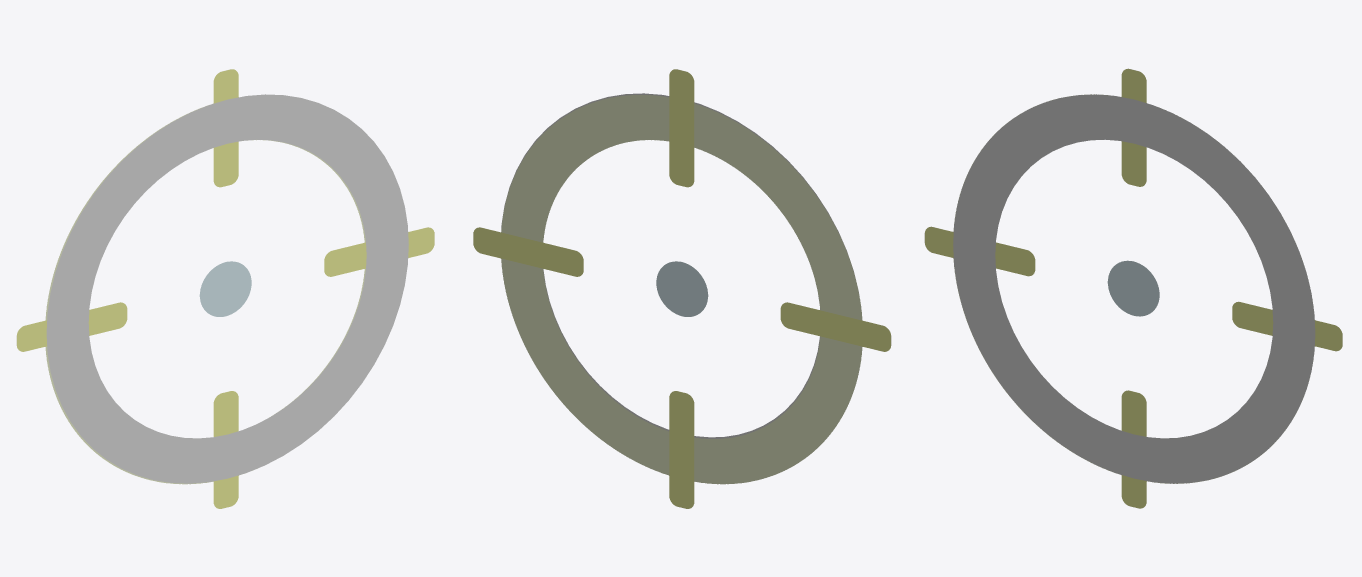
Rendered from progressBar.fbx.
3 renders of one model, left to right at view 1: azimuth 30°, elevation 25°; view 2: azimuth 150°, elevation 25°; view 3: azimuth 330°, elevation 25°, orthographic.
Visible parts, largest first — view 1: bar, pPlane1; view 2: pPlane1, bar; view 3: bar, pPlane1.
Boxes of the visible parts, bbox=[...] form: bar: bbox=[46, 94, 408, 483]; pPlane1: bbox=[16, 69, 434, 508]; pPlane1: bbox=[473, 69, 891, 508]; bar: bbox=[501, 93, 858, 438]; bar: bbox=[953, 94, 1315, 483]; pPlane1: bbox=[924, 68, 1342, 508].
Bounding box in the file's own units: 7.99 × 7.99 × 0.0232.
2 materials, 1 textured.
